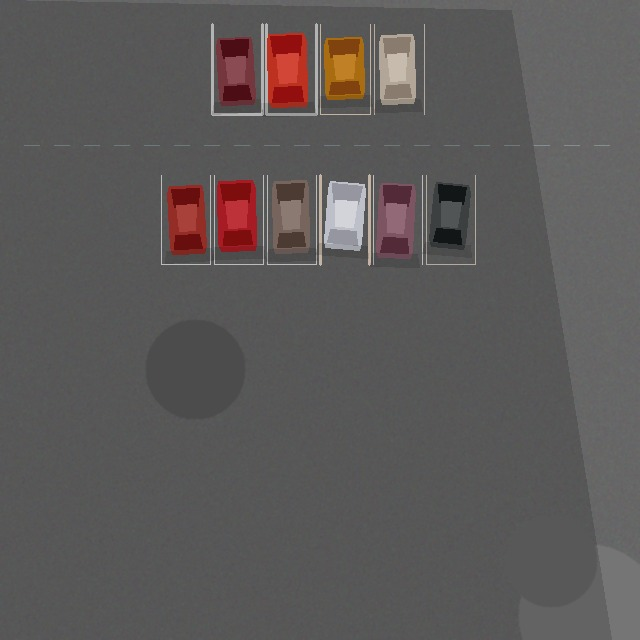space-occupied: (212, 24, 262, 114), (266, 24, 316, 114), (320, 24, 370, 114), (374, 24, 424, 114), (161, 175, 210, 264), (214, 175, 263, 264), (267, 175, 316, 264), (320, 175, 369, 264), (373, 175, 422, 264), (426, 175, 475, 264)
